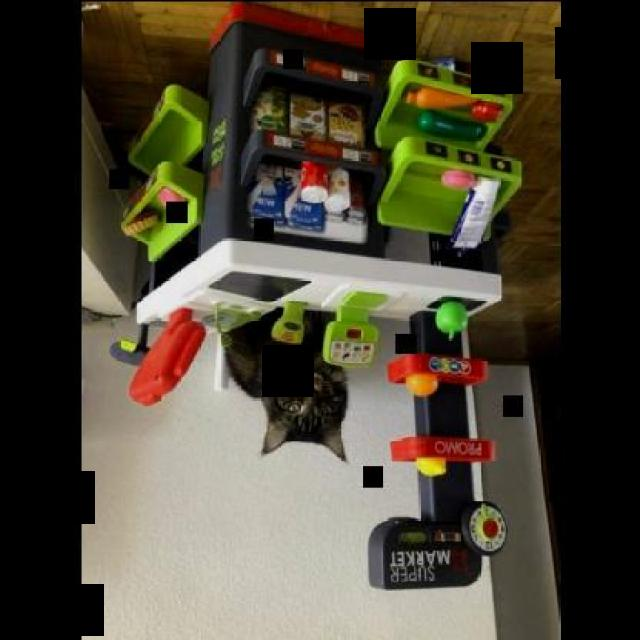unauthorized: (217, 304, 349, 462)
